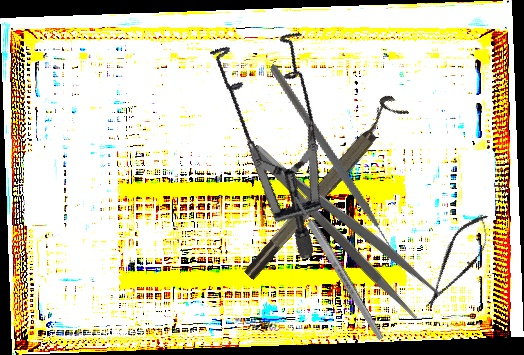Chopper: (214, 63, 444, 268)
Dressing Forceps: (245, 125, 443, 323)
Fixation Ring: (233, 92, 410, 283)
Micro Scissor: (413, 206, 501, 318)
Scalpel Handle: (290, 194, 386, 342)
Speculum: (156, 7, 379, 263)
